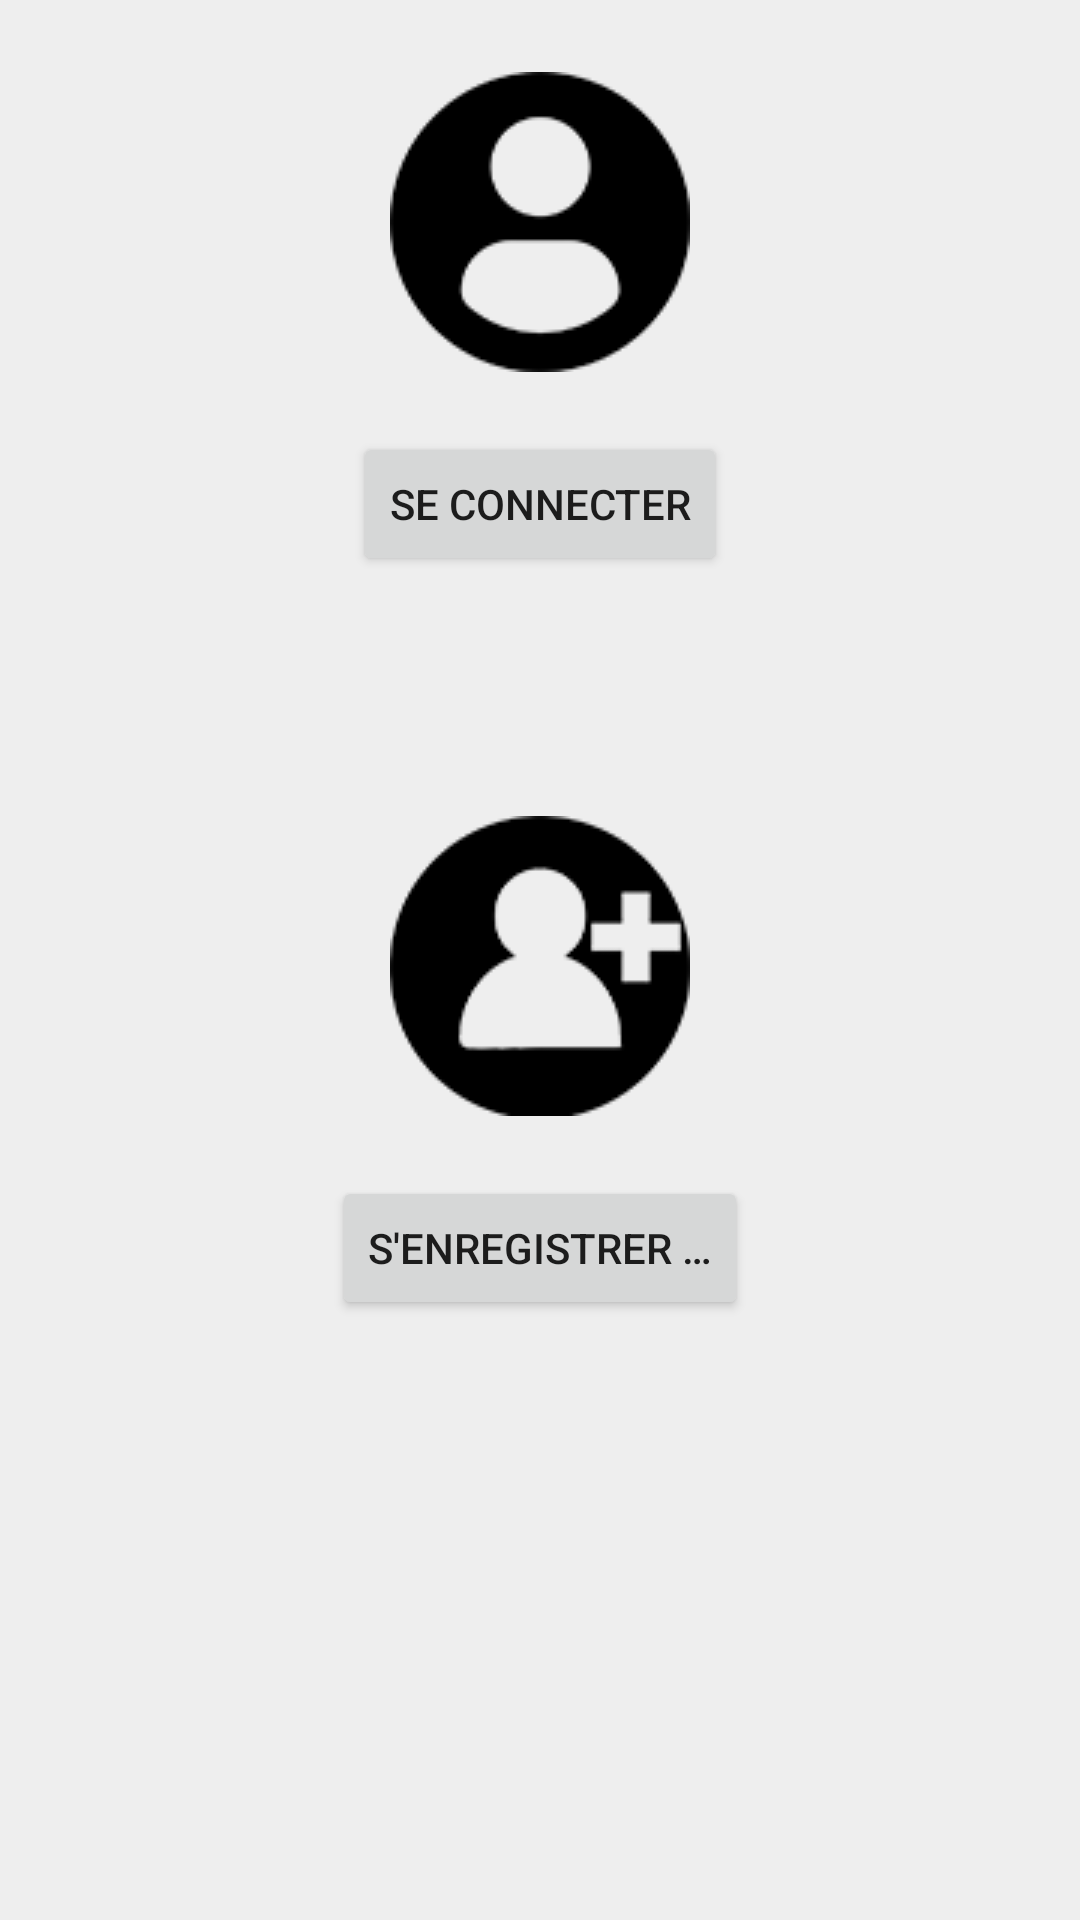

Screen size 1080px x 1920px. Icon name, then its center in pixels as (x,y):
creercompte bonne taille: (540,966)
